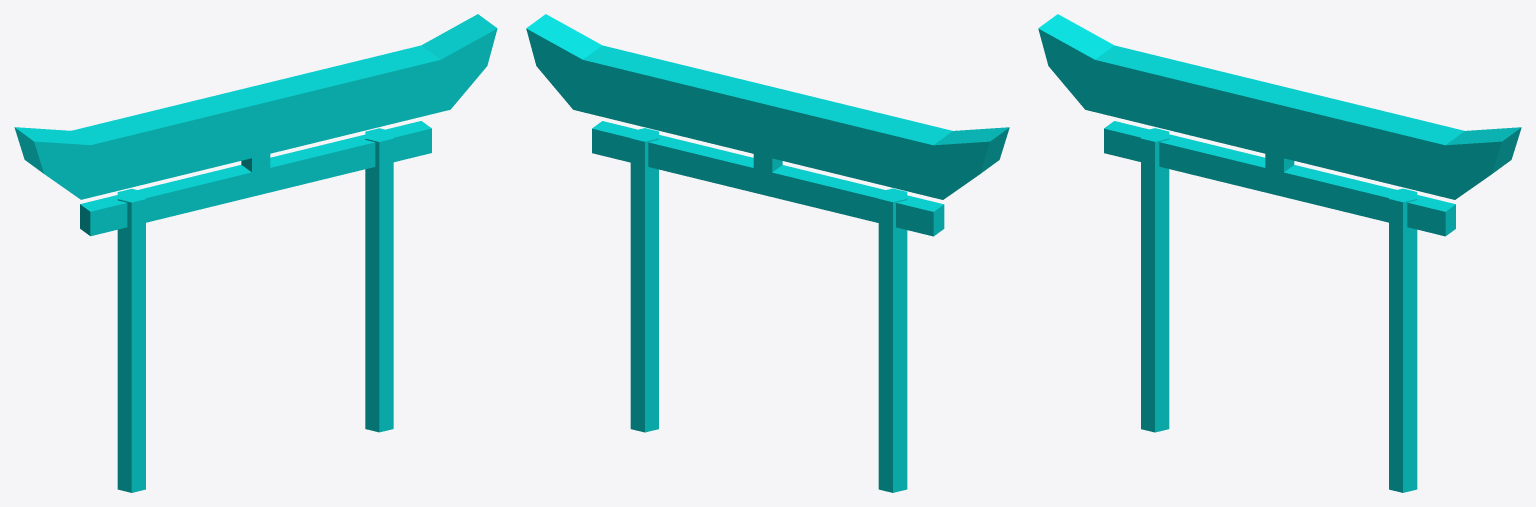
File: SM_Prop_Torii_Gate_01_Collision.fbx
3 views of the same model, side by side, from view 1: azimuth 30°, elevation 25°; view 2: azimuth 150°, elevation 25°; view 3: azimuth 330°, elevation 25° (orthographic).
Visible parts, largest first — view 1: SM_Prop_Torii_Gate_01_Collision; view 2: SM_Prop_Torii_Gate_01_Collision; view 3: SM_Prop_Torii_Gate_01_Collision.
Boxes of the visible parts, bbox=[...] form: SM_Prop_Torii_Gate_01_Collision: bbox=[14, 14, 497, 492]; SM_Prop_Torii_Gate_01_Collision: bbox=[526, 14, 1009, 492]; SM_Prop_Torii_Gate_01_Collision: bbox=[1038, 14, 1521, 492].
Bounding box in the file's own units: 567 × 442 × 41.64.
